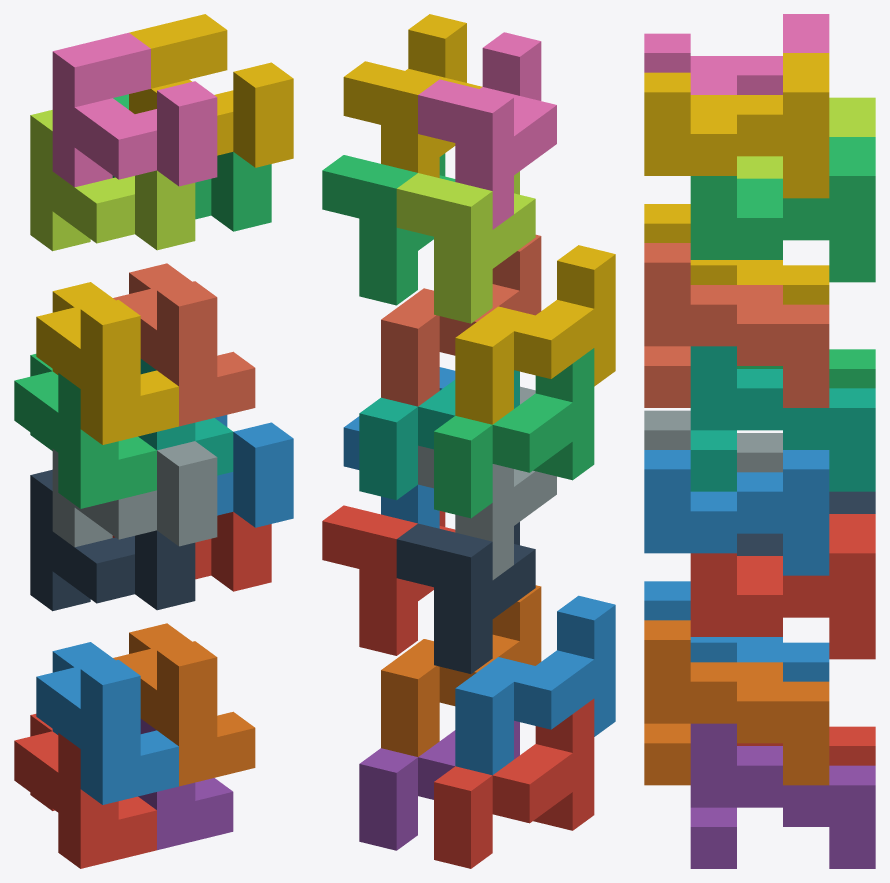
File: tiling.obj
3 views of the same model, side by side, from view 1: azimuth 30°, elevation 25°; view 2: azimuth 150°, elevation 25°; view 3: azimuth 270°, elevation 25° (orthographic). The views are drawn at different scales.
Visible parts, largest first — view 1: copy_2_domain_4, copy_1_domain_2, copy_1_domain_4, copy_2_domain_3, copy_2_domain_1, copy_2_domain_8, copy_1_domain_8, copy_1_domain_6, copy_1_domain_1, copy_1_domain_3, copy_2_domain_2, copy_2_domain_6 (+4 smaller); view 2: copy_1_domain_2, copy_1_domain_4, copy_2_domain_4, copy_1_domain_1, copy_1_domain_3, copy_2_domain_1, copy_2_domain_3, copy_2_domain_8, copy_1_domain_6, copy_1_domain_8, copy_2_domain_7, copy_2_domain_5 (+4 smaller); view 3: copy_1_domain_6, copy_1_domain_8, copy_2_domain_8, copy_2_domain_6, copy_2_domain_7, copy_1_domain_7, copy_1_domain_5, copy_2_domain_5, copy_2_domain_4, copy_1_domain_2, copy_1_domain_4, copy_2_domain_2 (+4 smaller).
Part boxes in pixels (x1,y1,x2,y2): copy_2_domain_4: [52, 32, 217, 187]; copy_1_domain_2: [36, 642, 178, 804]; copy_1_domain_4: [36, 282, 178, 444]; copy_2_domain_3: [30, 110, 195, 251]; copy_2_domain_1: [30, 469, 195, 611]; copy_2_domain_8: [129, 14, 293, 167]; copy_1_domain_8: [113, 263, 255, 426]; copy_1_domain_6: [113, 623, 255, 786]; copy_1_domain_1: [14, 714, 156, 868]; copy_1_domain_3: [14, 354, 156, 508]; copy_2_domain_2: [52, 441, 217, 547]; copy_2_domain_6: [215, 415, 293, 527]; copy_1_domain_2: [455, 595, 615, 775]; copy_1_domain_4: [455, 245, 615, 424]; copy_2_domain_4: [418, 32, 556, 229]; copy_1_domain_1: [434, 698, 594, 868]; copy_1_domain_3: [434, 348, 594, 518]; copy_2_domain_1: [396, 522, 535, 673]; copy_2_domain_3: [396, 171, 535, 323]; copy_2_domain_8: [343, 14, 482, 177]; copy_1_domain_6: [381, 585, 541, 756]; copy_1_domain_8: [381, 234, 541, 406]; copy_2_domain_7: [322, 153, 455, 305]; copy_2_domain_5: [322, 505, 455, 655]; copy_1_domain_6: [644, 620, 829, 785]; copy_1_domain_8: [644, 243, 829, 407]; copy_2_domain_8: [644, 53, 829, 198]; copy_2_domain_6: [644, 450, 829, 575]; copy_2_domain_7: [690, 137, 875, 282]; copy_1_domain_7: [690, 346, 875, 491]; copy_1_domain_5: [690, 723, 875, 868]; copy_2_domain_5: [690, 514, 875, 659]; copy_2_domain_4: [644, 14, 829, 94]; copy_1_domain_2: [644, 581, 829, 681]; copy_1_domain_4: [644, 204, 829, 304]; copy_2_domain_2: [644, 410, 782, 472].
Bounding box in the file's own units: 5 × 19 × 5.
